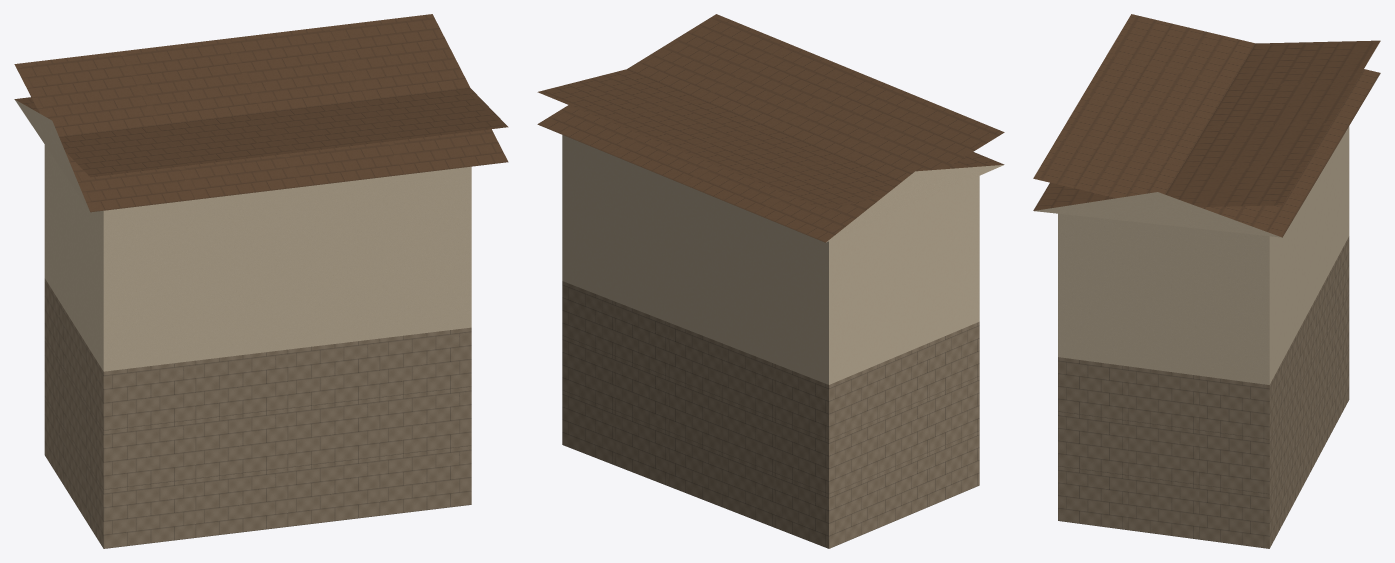
The model's file is bld_c-3_19_542.gltf.
The picture shows the model from 3 angles, left to right: view 1: azimuth 30°, elevation 25°; view 2: azimuth 150°, elevation 25°; view 3: azimuth 270°, elevation 25°; orthographic projection. The views are drawn at different scales.
Parts seen in each view (by area): view 1: bld_c-3_19_542; view 2: bld_c-3_19_542; view 3: bld_c-3_19_542.
Part boxes in pixels (left/top/right/bottom): bld_c-3_19_542: left=14, top=14, right=508, bottom=548; bld_c-3_19_542: left=537, top=14, right=1004, bottom=548; bld_c-3_19_542: left=1033, top=14, right=1380, bottom=548.
Bounding box in the file's own units: 12.67 × 10.9 × 9.74.
4 materials, 4 textured.
